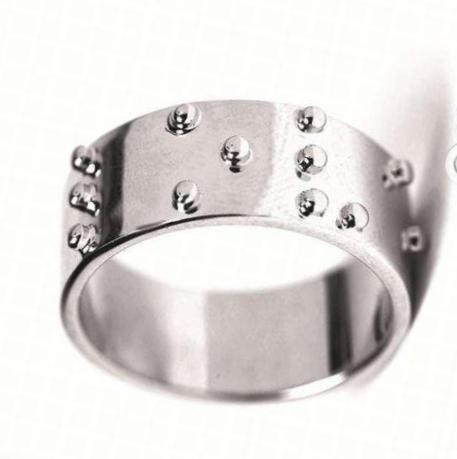Braille: (294, 101, 373, 237), (164, 101, 252, 214), (67, 139, 145, 257)
